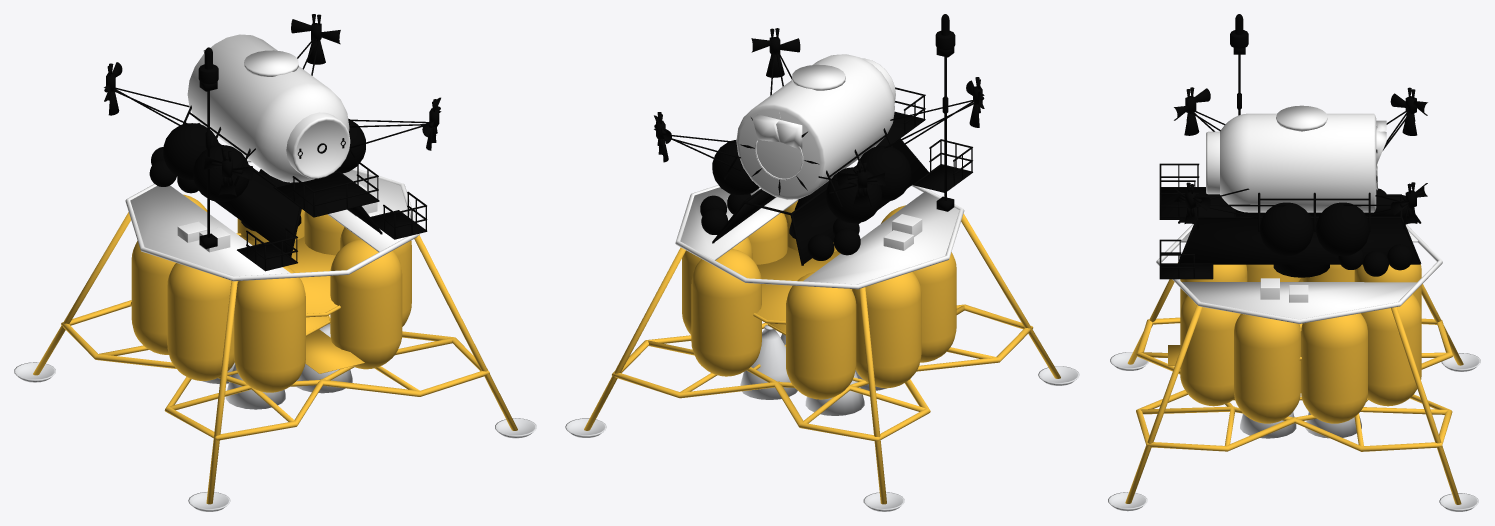
File: LunaerModuleProject.fbx
3 renders of one model, left to right at view 1: azimuth 30°, elevation 25°; view 2: azimuth 150°, elevation 25°; view 3: azimuth 270°, elevation 25°, orthographic. The views are drawn at different scales.
Parts seen in each view (by area): view 1: LM_Descent_Stage, LM_Ascent_Stage; view 2: LM_Descent_Stage, LM_Ascent_Stage; view 3: LM_Descent_Stage, LM_Ascent_Stage.
Boxes of the visible parts, x1,y1,x2,y2 form: LM_Descent_Stage: (14, 159, 536, 511); LM_Ascent_Stage: (104, 14, 441, 271); LM_Descent_Stage: (565, 185, 1079, 511); LM_Ascent_Stage: (654, 14, 984, 265); LM_Descent_Stage: (1108, 224, 1480, 511); LM_Ascent_Stage: (1159, 14, 1427, 279).
Size of the model in its own units: 6.62 by 6.62 by 7.38.
